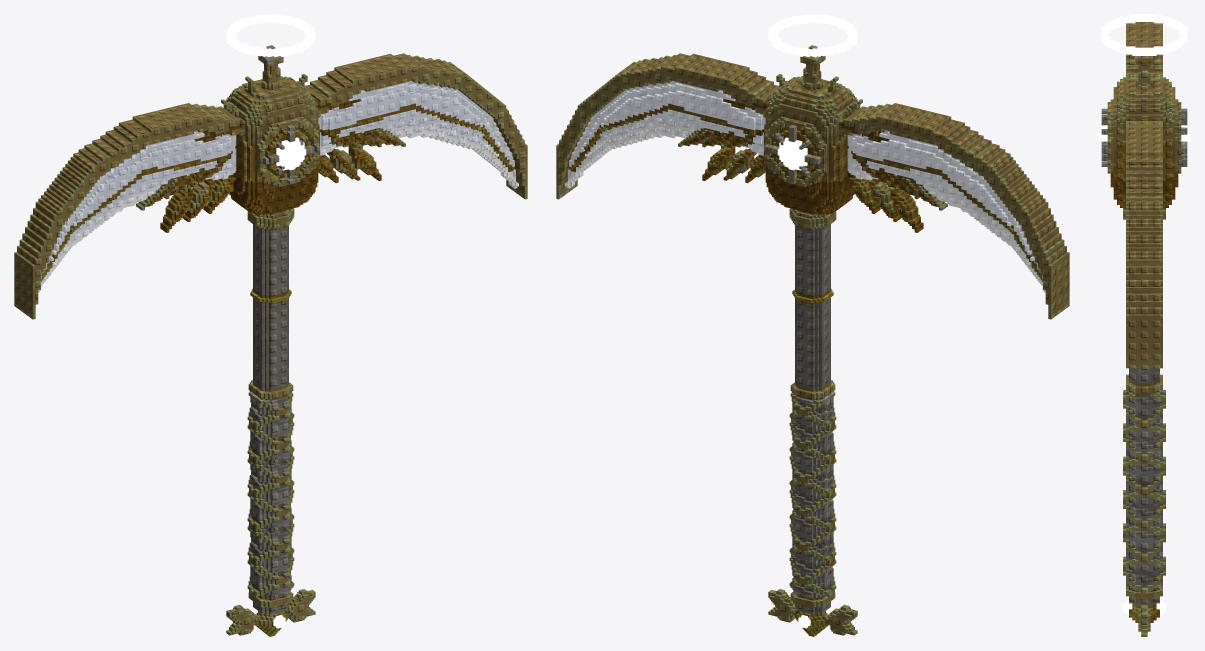
Rendered from PiocheCeleste.glb.
3 views of the same model, side by side, from view 1: azimuth 30°, elevation 25°; view 2: azimuth 150°, elevation 25°; view 3: azimuth 270°, elevation 25° (orthographic).
Visible parts, largest first — view 1: PiocheCeleste_Tete_Ora, PiocheCeleste_Tete_Cristal, PiocheCeleste_Tete_Orb, PiocheCeleste_Manche_Or, PiocheCeleste_Manche_Ivoire, PiocheCeleste_Manche_Cuir, PiocheCeleste_Tete_Lueur; view 2: PiocheCeleste_Tete_Ora, PiocheCeleste_Tete_Cristal, PiocheCeleste_Tete_Orb, PiocheCeleste_Manche_Or, PiocheCeleste_Manche_Ivoire, PiocheCeleste_Manche_Cuir, PiocheCeleste_Tete_Lueur; view 3: PiocheCeleste_Tete_Orb, PiocheCeleste_Manche_Or, PiocheCeleste_Manche_Cuir, PiocheCeleste_Tete_Ora, PiocheCeleste_Tete_Lueur, PiocheCeleste_Manche_Ivoire, PiocheCeleste_Manche_Gemme.
Boxes of the visible parts, x1,y1,x2,y2 form: PiocheCeleste_Tete_Ora: (14, 46, 299, 319); PiocheCeleste_Tete_Cristal: (38, 81, 518, 293); PiocheCeleste_Tete_Orb: (257, 45, 527, 211); PiocheCeleste_Manche_Or: (226, 208, 315, 636); PiocheCeleste_Manche_Ivoire: (253, 210, 288, 614); PiocheCeleste_Manche_Cuir: (250, 393, 291, 598); PiocheCeleste_Tete_Lueur: (226, 14, 315, 170); PiocheCeleste_Tete_Ora: (786, 46, 1069, 319); PiocheCeleste_Tete_Cristal: (565, 81, 1045, 293); PiocheCeleste_Tete_Orb: (556, 45, 829, 210); PiocheCeleste_Manche_Or: (768, 208, 857, 636); PiocheCeleste_Manche_Ivoire: (795, 210, 830, 614); PiocheCeleste_Manche_Cuir: (792, 393, 833, 598); PiocheCeleste_Tete_Lueur: (768, 14, 857, 170); PiocheCeleste_Tete_Orb: (1101, 46, 1187, 368); PiocheCeleste_Manche_Or: (1123, 209, 1165, 636); PiocheCeleste_Manche_Cuir: (1126, 390, 1162, 590); PiocheCeleste_Tete_Ora: (1104, 22, 1187, 162); PiocheCeleste_Tete_Lueur: (1098, 14, 1190, 141); PiocheCeleste_Manche_Ivoire: (1129, 368, 1159, 605); PiocheCeleste_Manche_Gemme: (1123, 601, 1165, 614).
Bounding box in the file's own units: 7.36 × 8.56 × 1.2.
Materials: 6 (4 with a texture image).
